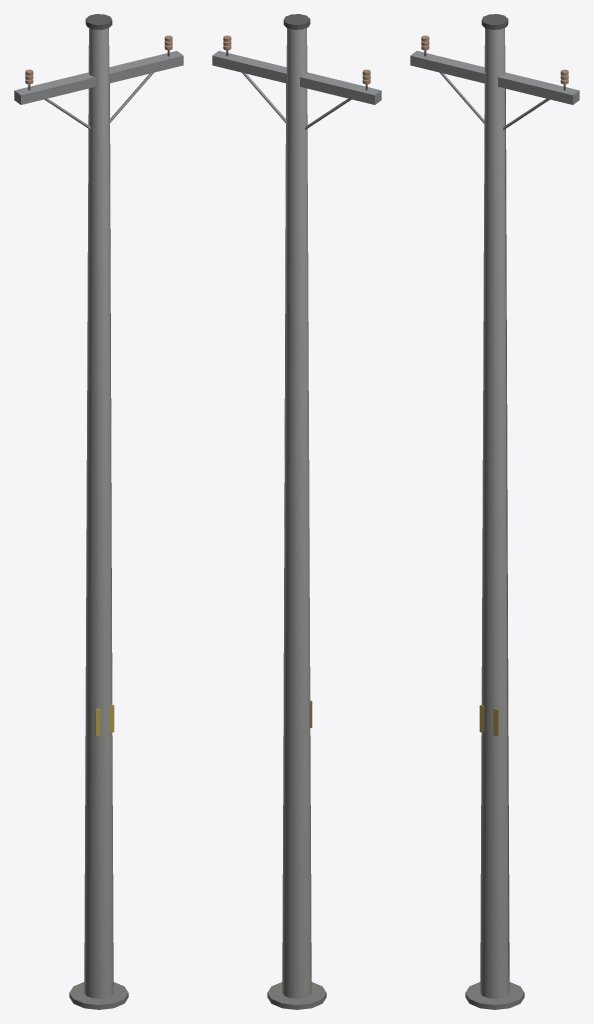
Rendered from powerPole_steel.glb.
3 views of the same model, side by side, from view 1: azimuth 30°, elevation 25°; view 2: azimuth 150°, elevation 25°; view 3: azimuth 330°, elevation 25° (orthographic).
Parts seen in each view (by area): view 1: powerPole_steel; view 2: powerPole_steel; view 3: powerPole_steel.
Part boxes in pixels (x1,y1,x2,y2): powerPole_steel: [14, 14, 183, 1009]; powerPole_steel: [212, 14, 381, 1009]; powerPole_steel: [410, 14, 579, 1009].
Bounding box in the file's own units: 1.4 × 8.04 × 0.44.
